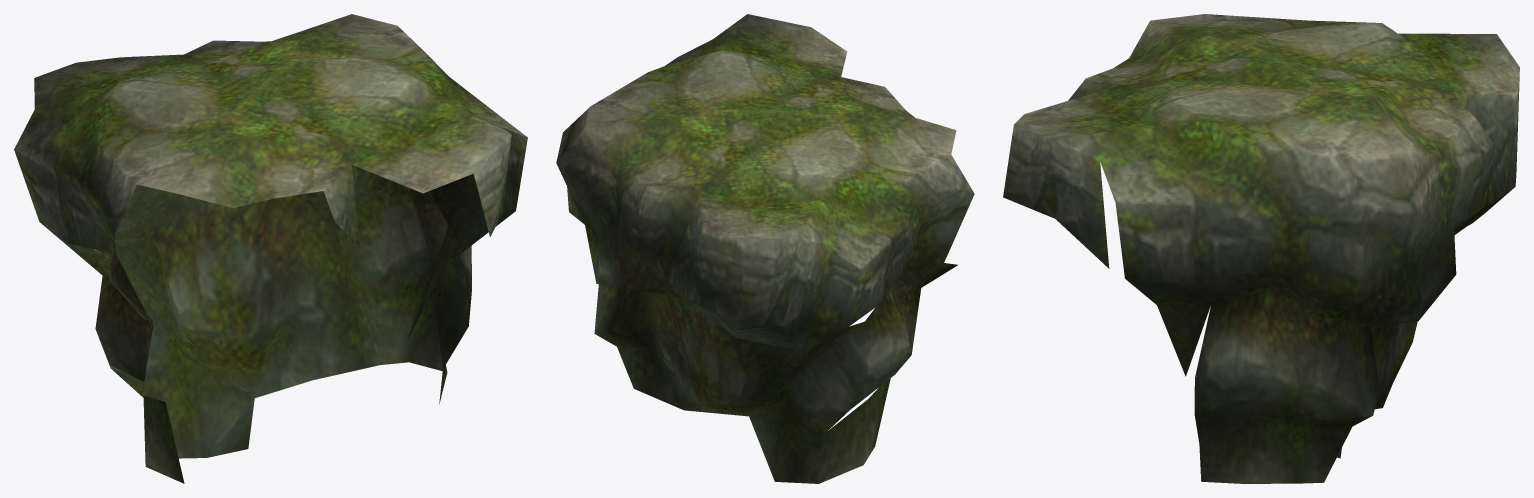
Rendered from S_Rock_Green042_H3.FBX.
3 renders of one model, left to right at view 1: azimuth 30°, elevation 25°; view 2: azimuth 150°, elevation 25°; view 3: azimuth 270°, elevation 25°, orthographic. The views are drawn at different scales.
Visible parts, largest first — view 1: S_Rock_Green042_H3; view 2: S_Rock_Green042_H3; view 3: S_Rock_Green042_H3.
Boxes of the visible parts, <box> form: S_Rock_Green042_H3: <box>14,14,527,483</box>; S_Rock_Green042_H3: <box>556,14,974,483</box>; S_Rock_Green042_H3: <box>1003,14,1519,483</box>.
Bounding box in the file's own units: 948 × 929 × 1034.
